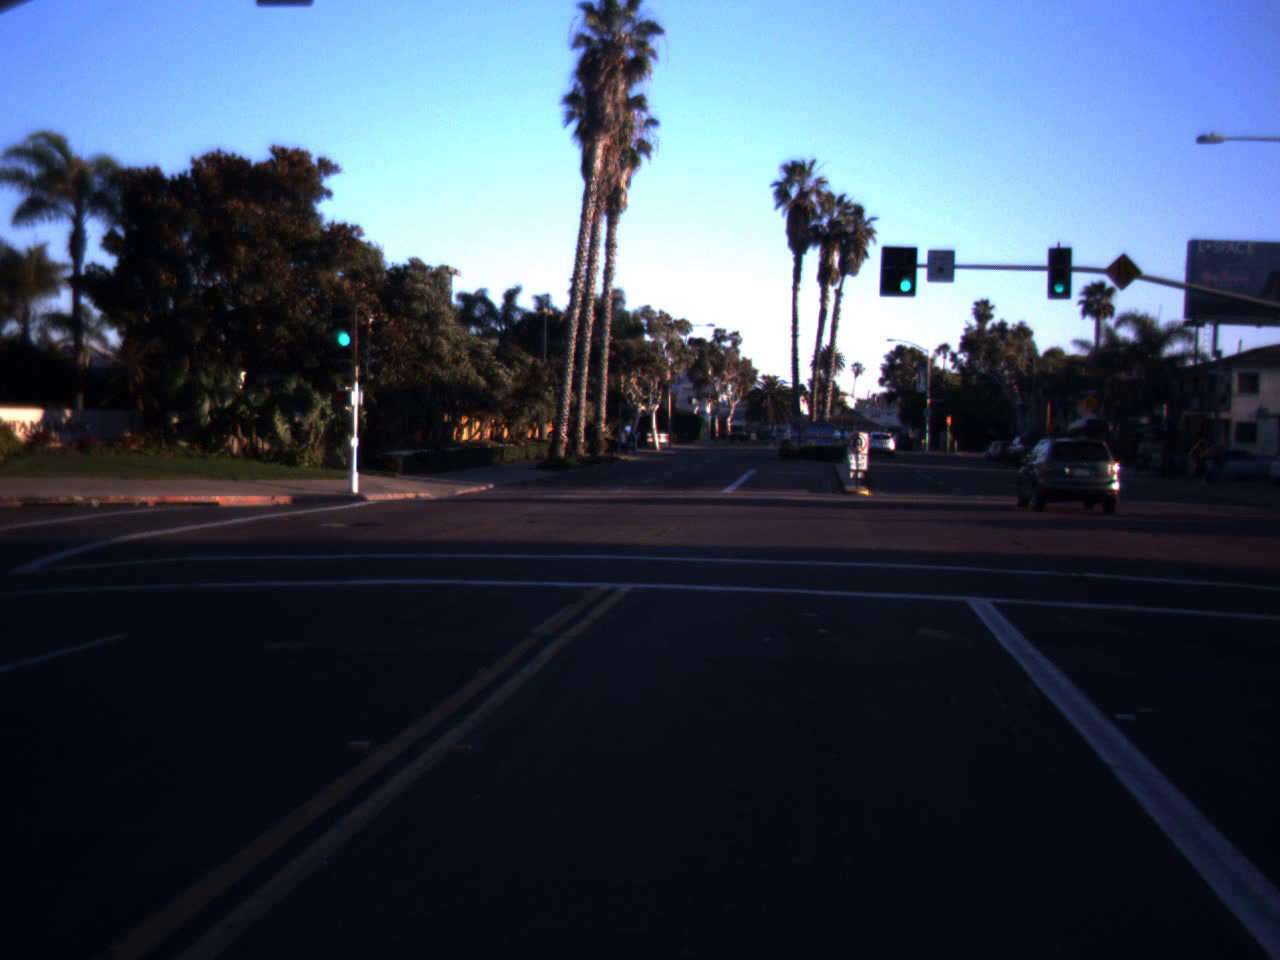go: (331, 295, 358, 350), (892, 246, 919, 296), (1050, 269, 1068, 294)
